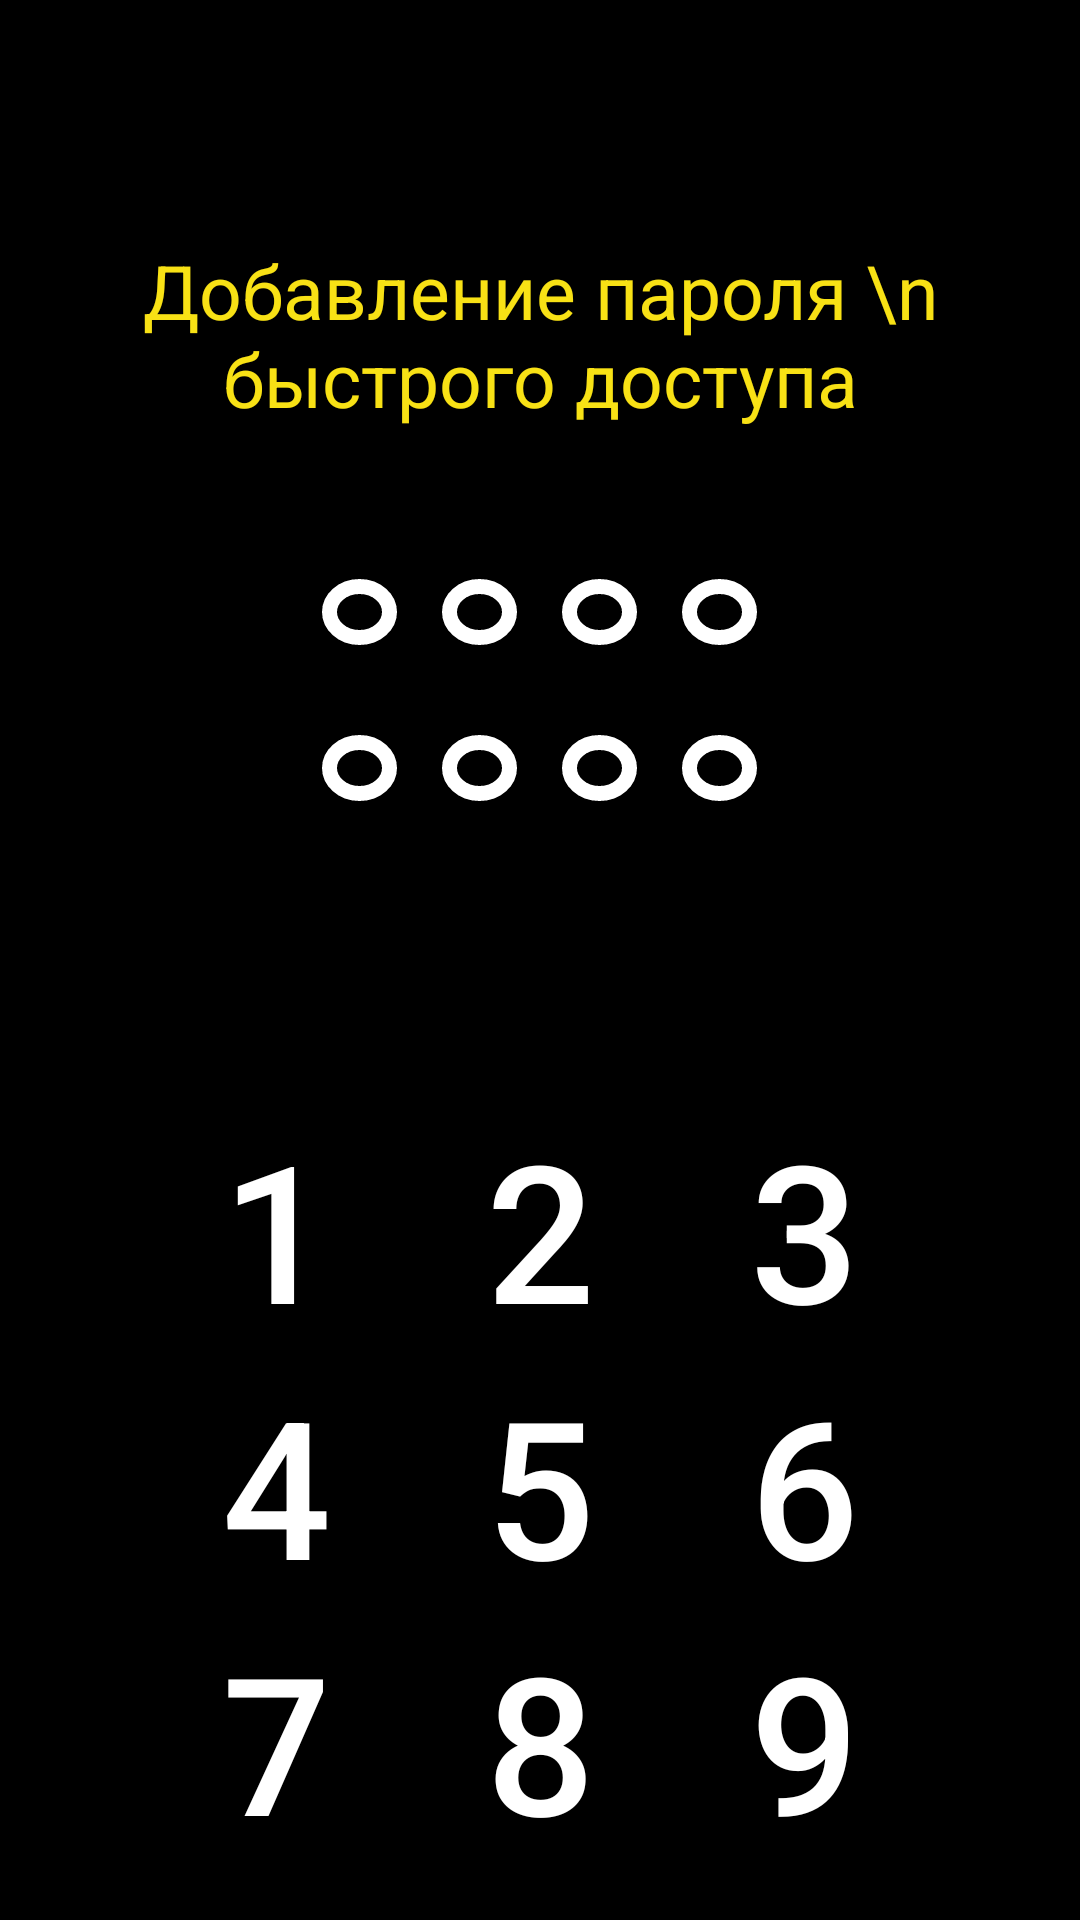

Icons on this 1080 × 1920 Android screen, each with its box as detection(x1, y1, x2, y2):
auth sircleoff: detection(322, 579, 397, 645), detection(442, 579, 517, 645), detection(562, 579, 637, 645), detection(682, 579, 757, 645), detection(322, 735, 397, 801), detection(442, 735, 517, 801), detection(562, 735, 637, 801), detection(682, 735, 757, 801)
